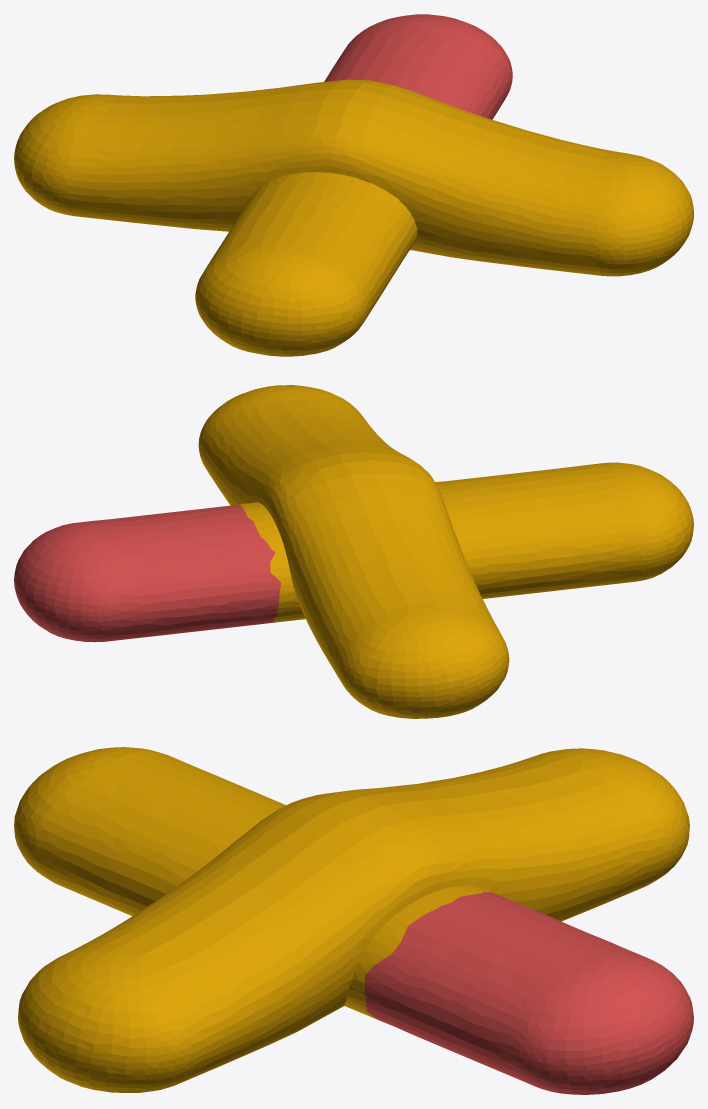
The model's file is fractured_34_2pcs.glb.
3 views of the same model, one above another, from view 1: azimuth 30°, elevation 25°; view 2: azimuth 150°, elevation 25°; view 3: azimuth 270°, elevation 25° (orthographic). The views are drawn at different scales.
Visible parts, largest first — view 1: piece_0.obj, piece_1.obj; view 2: piece_0.obj, piece_1.obj; view 3: piece_0.obj, piece_1.obj.
Part boxes in pixels (box(x1,y1,x2,y2)): piece_0.obj: box(14, 79, 693, 356); piece_1.obj: box(324, 14, 512, 119); piece_0.obj: box(198, 385, 693, 718); piece_1.obj: box(14, 504, 280, 642); piece_0.obj: box(14, 747, 689, 1092); piece_1.obj: box(364, 892, 693, 1094).
Bounding box in the file's own units: 0.9999 × 0.2492 × 1.
